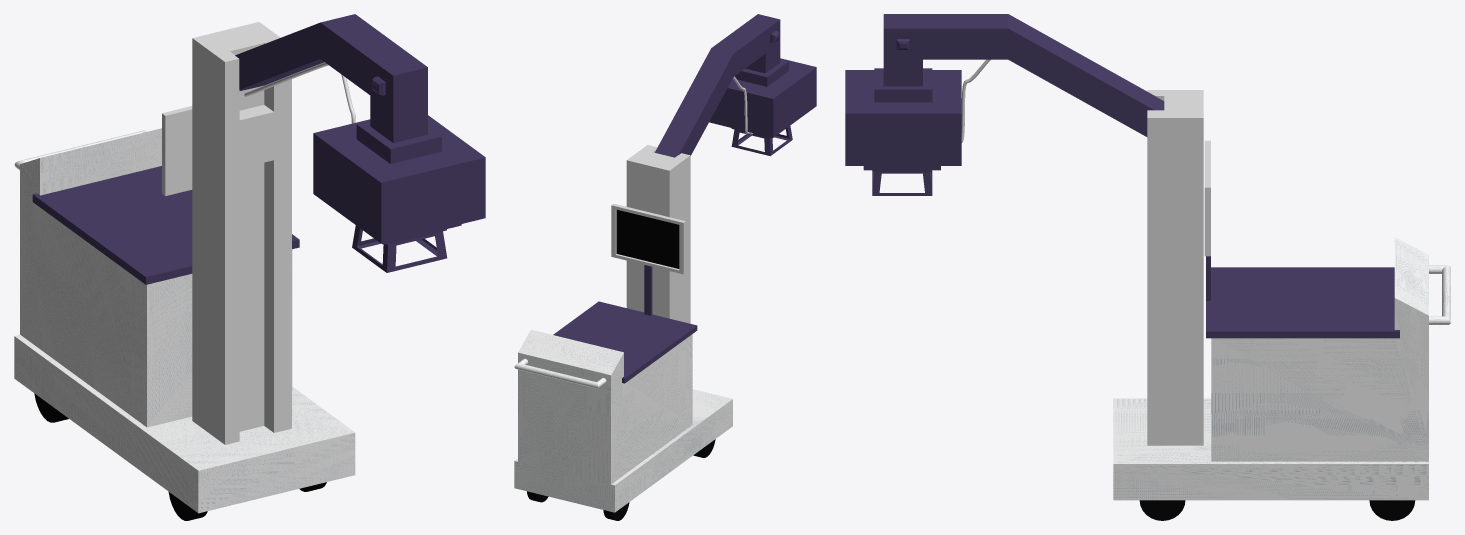
Rendered from x ray machine.fbx.
3 renders of one model, left to right at view 1: azimuth 30°, elevation 25°; view 2: azimuth 150°, elevation 25°; view 3: azimuth 270°, elevation 25°, orthographic. The views are drawn at different scales.
Parts seen in each view (by area): view 1: instance_0, instance_0.007, instance_0.008, Cube, BezierCurve; view 2: instance_0, instance_0.008, instance_0.007, Cube, instance_0.003; view 3: instance_0, instance_0.008, instance_0.007, Cube, instance_0.003, instance_0.001, instance_0.004.
Part boxes in pixels (x1,y1,x2,y2): instance_0: (14, 128, 355, 513); instance_0.007: (192, 22, 291, 444); instance_0.008: (235, 14, 485, 272); Cube: (162, 106, 192, 195); BezierCurve: (244, 62, 355, 123); instance_0: (514, 301, 732, 512); instance_0.008: (655, 14, 816, 157); instance_0.007: (626, 145, 690, 323); Cube: (611, 203, 685, 315); instance_0.003: (514, 358, 606, 388); instance_0: (1113, 237, 1428, 500); instance_0.008: (845, 14, 1164, 195); instance_0.007: (1147, 90, 1203, 445); Cube: (1204, 140, 1210, 300); instance_0.003: (1429, 265, 1450, 324); instance_0.001: (1369, 500, 1415, 520); instance_0.004: (1139, 500, 1185, 520).
Size of the model in its own units: 82.24 by 276 by 321.
